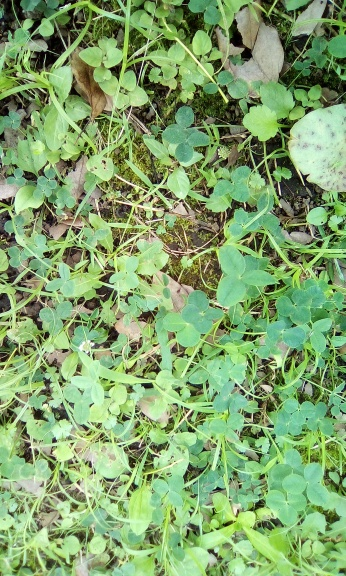4leaf: (182, 290, 223, 333)
